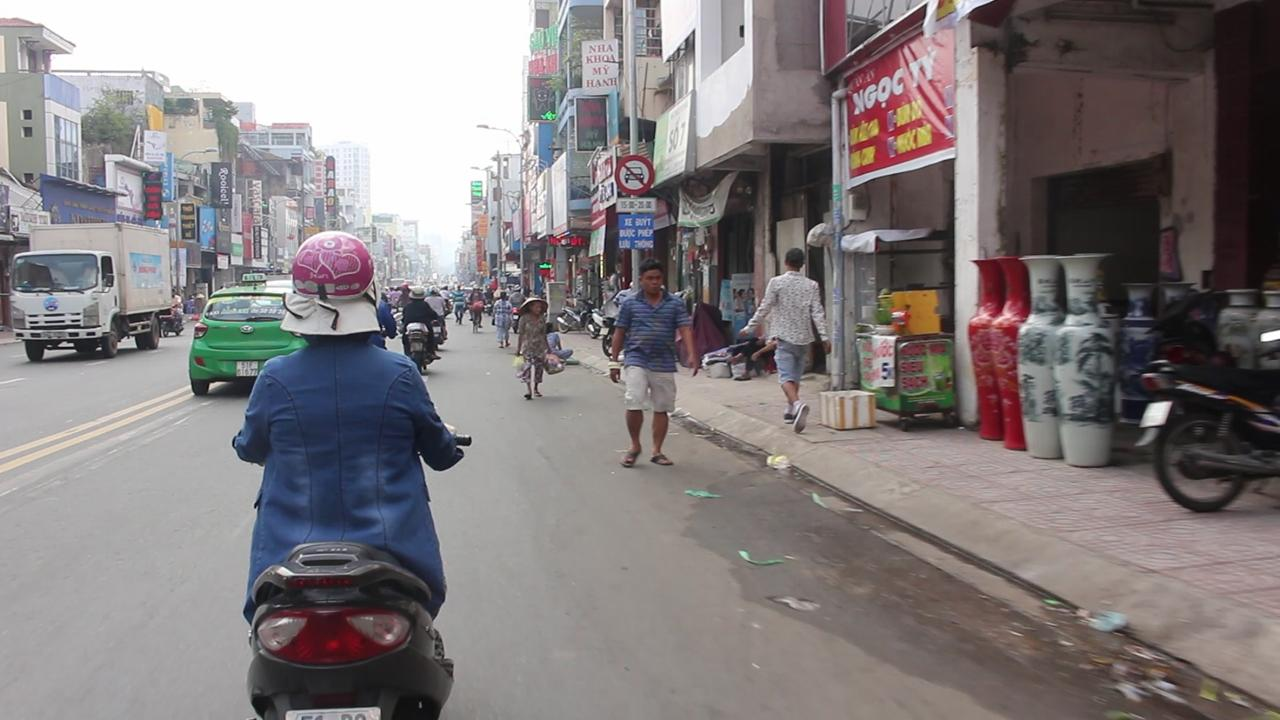P.104: (616, 156, 656, 195)
